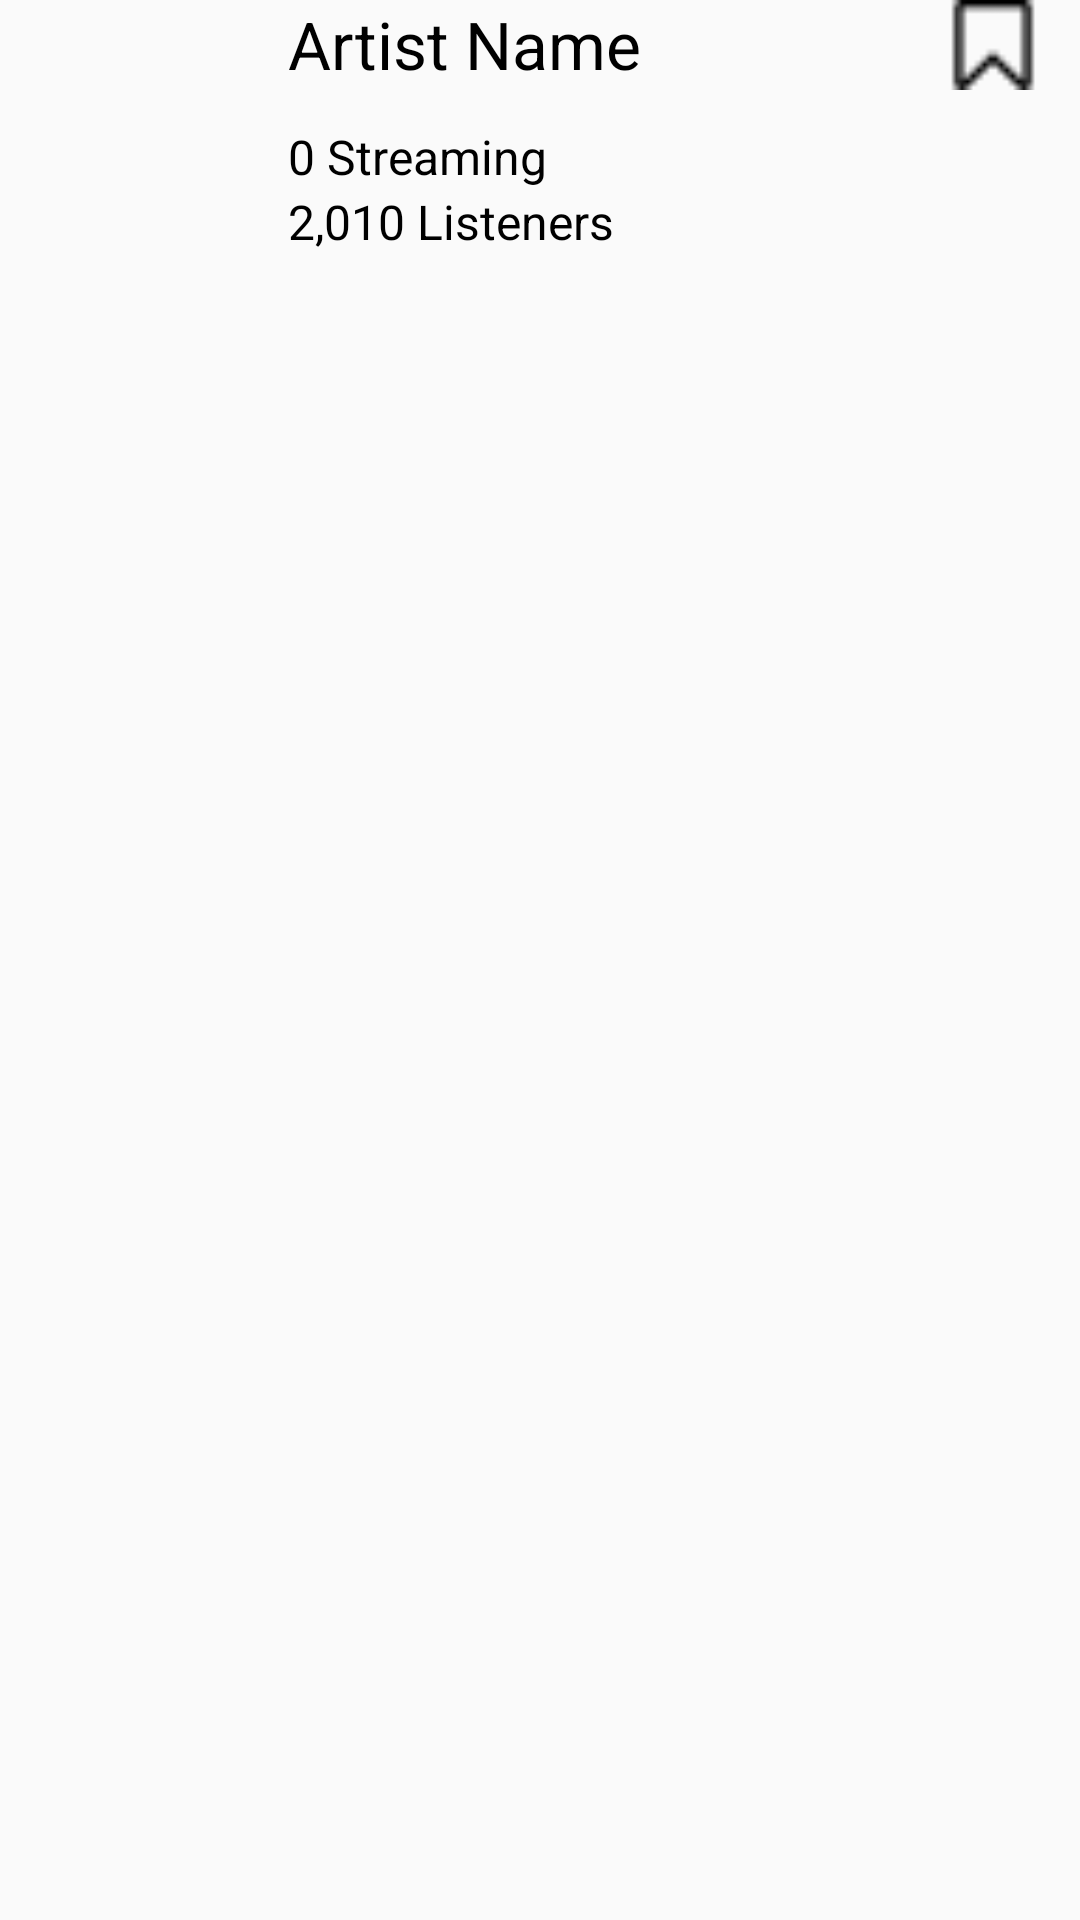

Icon click points for this 1080*1920 phone screenshot, format point (x, y):
bookmark: point (993, 45)
